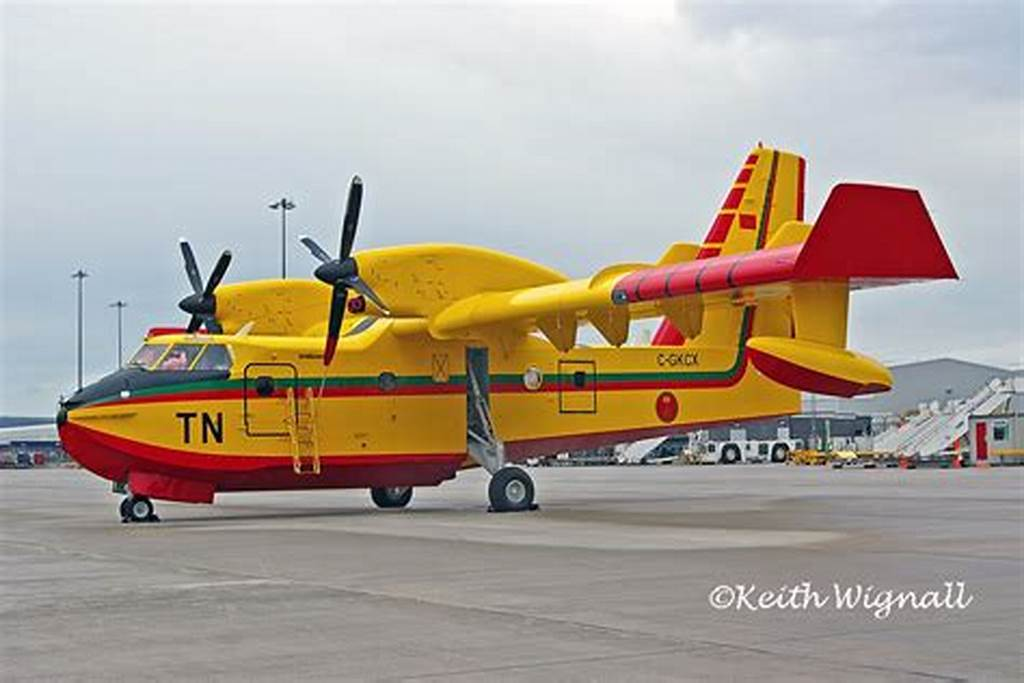Aeronef_de_service: (54, 138, 972, 536)
